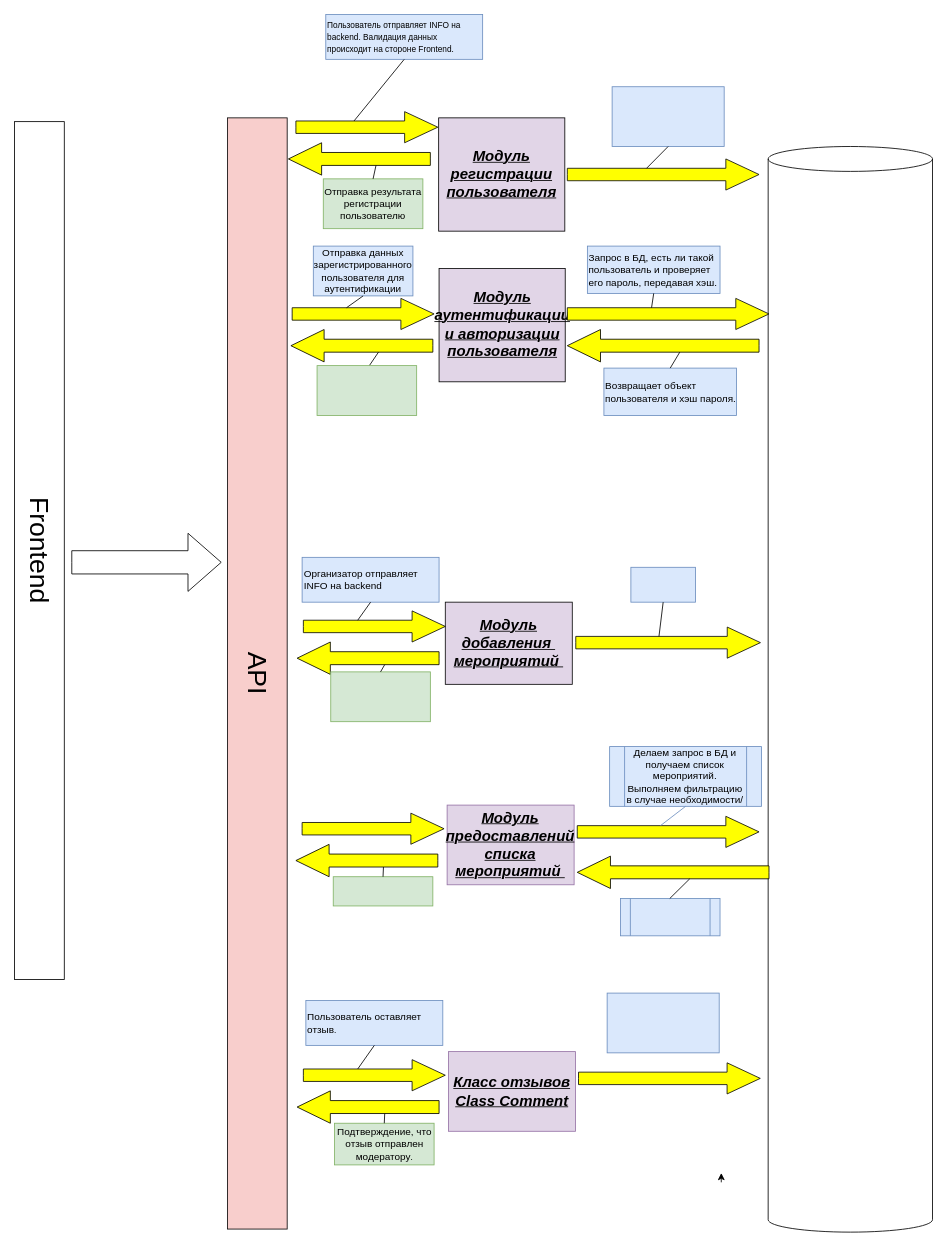
Some shapes in this 948 by 1247 pixel diagram are drawn without their labels. Here are the shapes that lost their labels. From the top down, the centre of each, then its label:
At (x=667, y=116): "User.add() Organizer.add() Admin.add()".
At (x=366, y=390): "Отправка результата аутентификации пользователя".
At (x=662, y=584): "Event.add()".
At (x=380, y=696): "Отправка результата регистрации мероприятия".
At (x=850, y=689): "База данных PostgreSQL".
At (x=382, y=891): "Список мероприятий".
At (x=670, y=917): "Тестирование и обработка данных".
At (x=662, y=1022): "Comment.add()".
